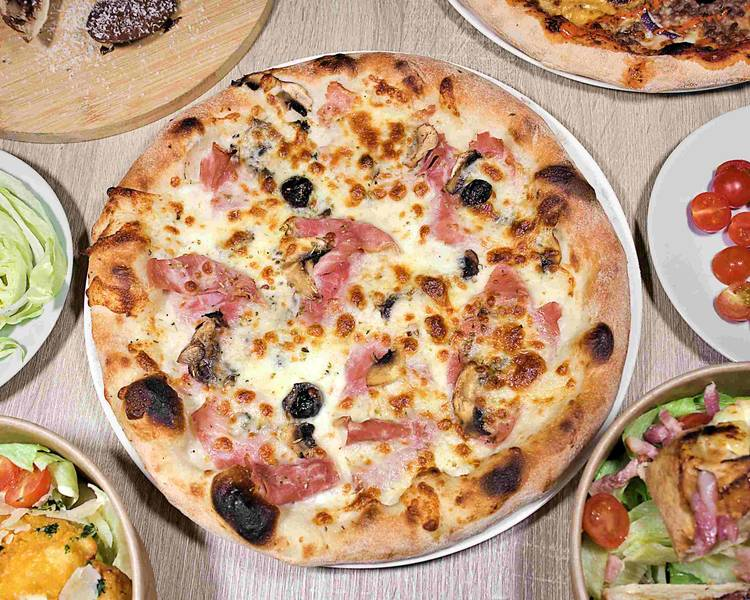Ham: (451, 267, 563, 448), (185, 386, 343, 504), (275, 213, 400, 322), (139, 252, 265, 328), (422, 130, 500, 240), (339, 417, 441, 488), (193, 143, 266, 212), (339, 339, 392, 396), (317, 83, 357, 125)
Olives: (279, 380, 326, 420), (458, 177, 492, 209), (283, 174, 313, 208)
Pizza: (88, 51, 634, 564)
